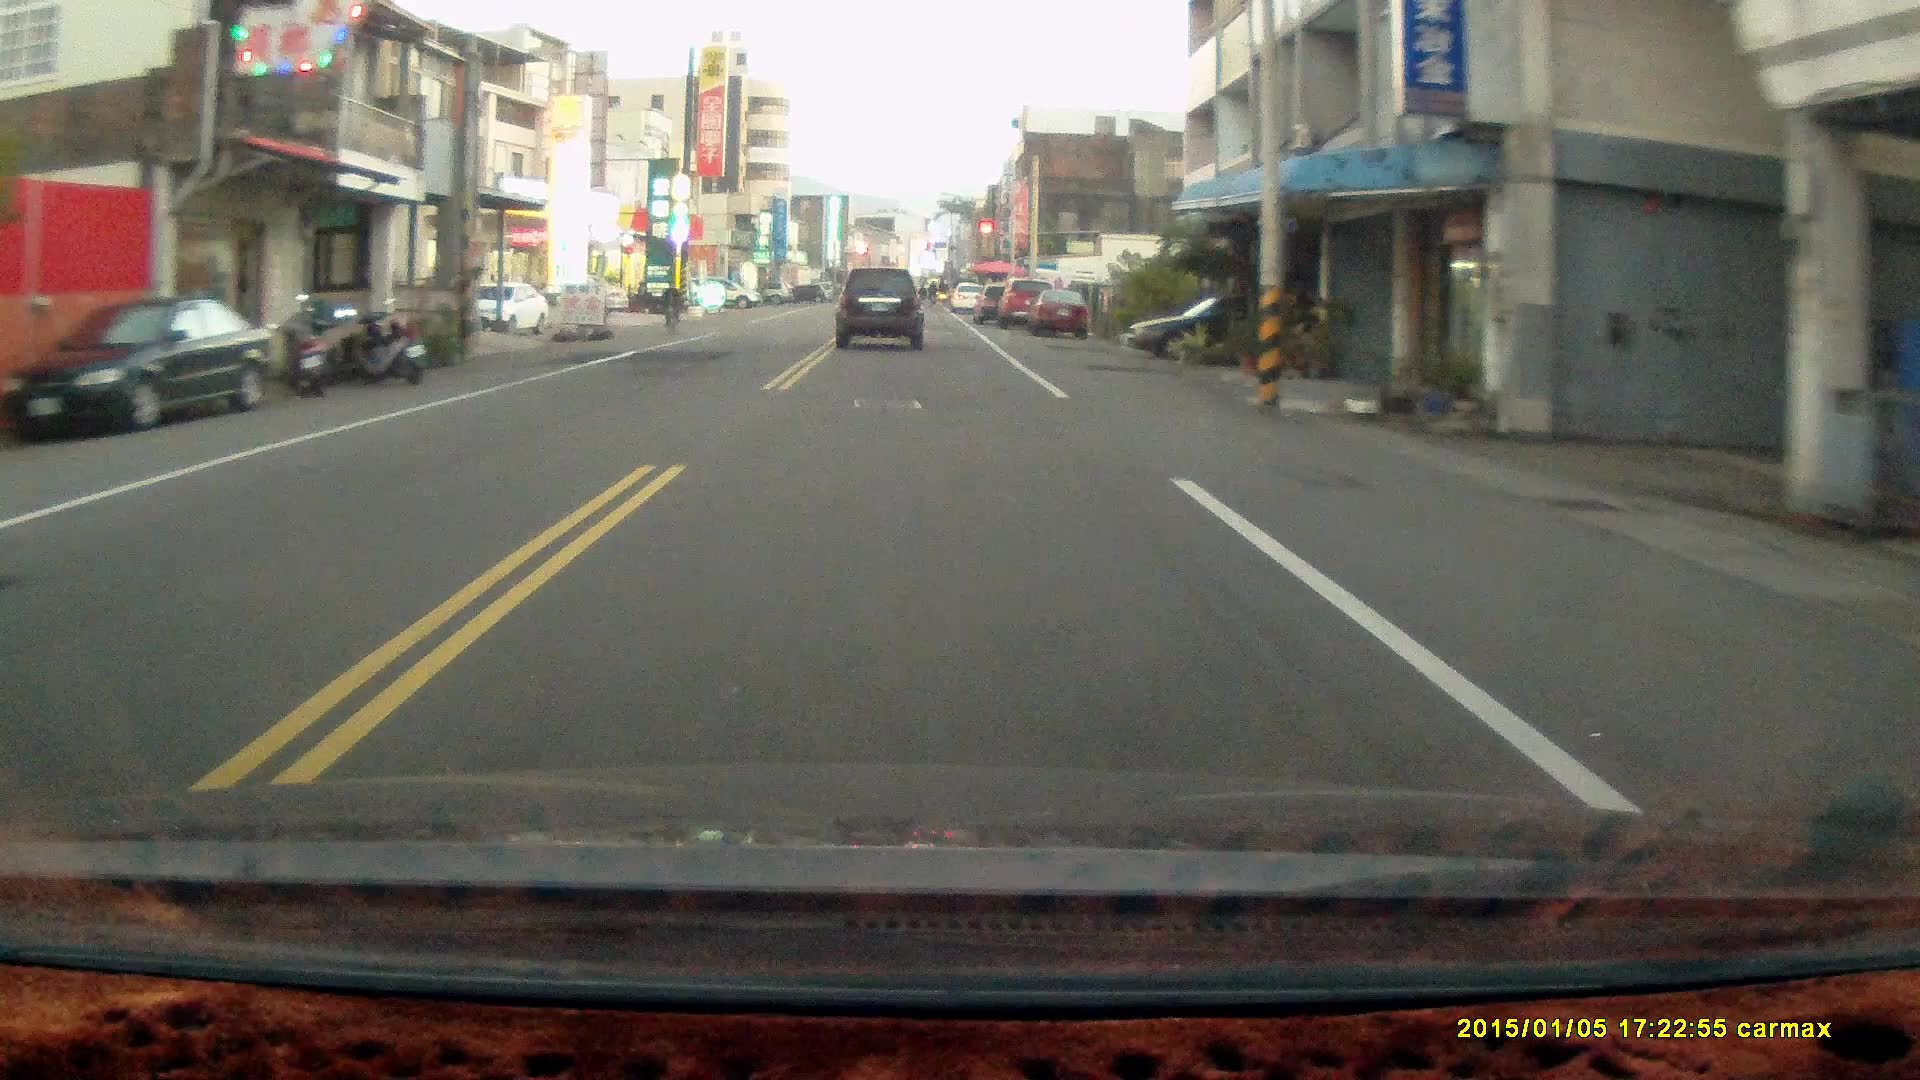rider: (657, 277, 682, 339)
vehicle: (17, 297, 280, 434), (835, 265, 926, 354), (458, 283, 550, 336)
